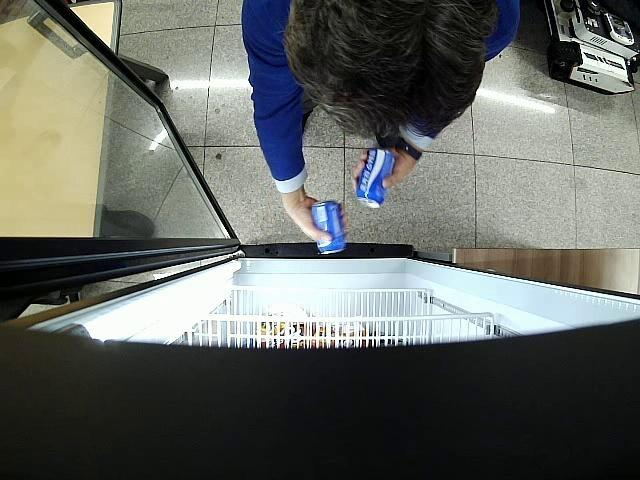13_pocariSweat: (356, 149, 394, 209), (312, 200, 344, 254)
